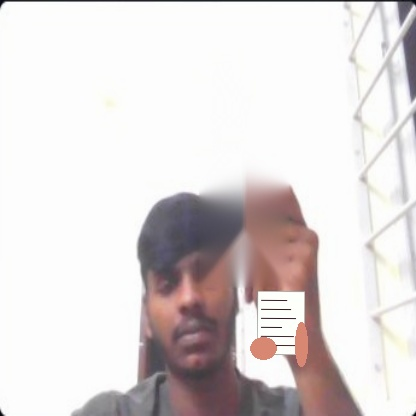cheat_chit: (257, 291, 305, 355)
